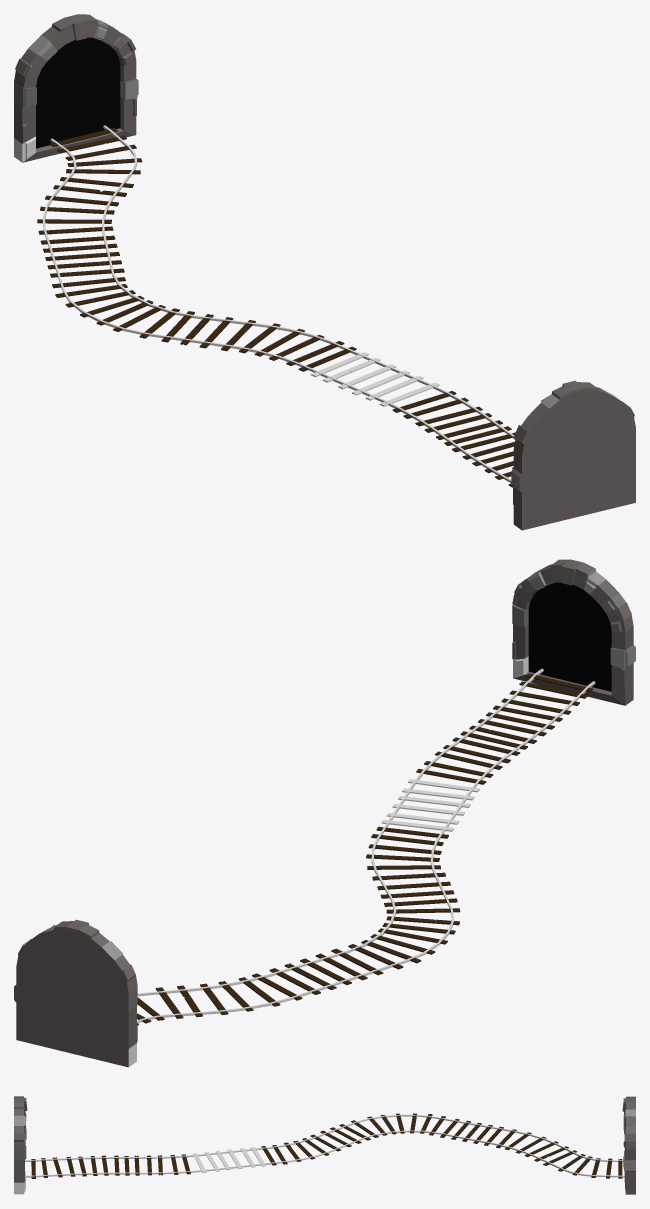
The model's file is ferrovia.fbx.
3 renders of one model, top to bottom at view 1: azimuth 30°, elevation 25°; view 2: azimuth 150°, elevation 25°; view 3: azimuth 270°, elevation 25°, orthographic. The views are drawn at different scales.
Visible parts, largest first — view 1: ferrovia; view 2: ferrovia; view 3: ferrovia.
Part boxes in pixels (left/top/right/bottom): ferrovia: left=14, top=14, right=635, bottom=530; ferrovia: left=14, top=559, right=635, bottom=1067; ferrovia: left=14, top=1096, right=635, bottom=1194.
Bounding box in the file's own units: 1308 × 650 × 4726.
